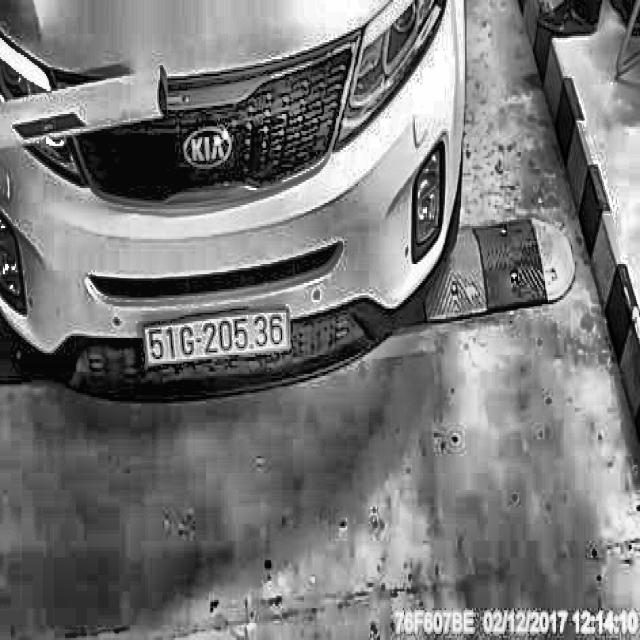plate: (140, 299, 294, 371)
